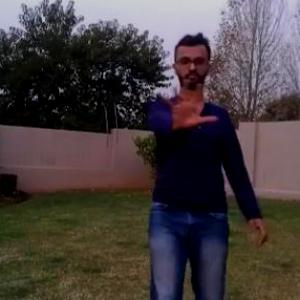follow_hand: (157, 78, 220, 133)
